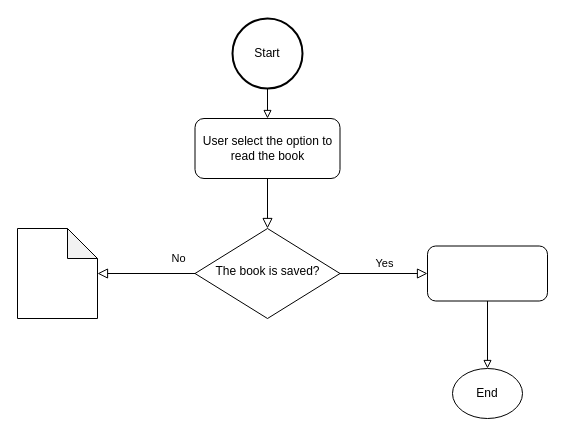
Image size: 565x436. Some labels were removed from this diagram. The centre of each missing label's shape, as x and y in pixels:
Save Book Activity: the point at 57,273
The book's link or pdf is deploy: the point at 487,273
